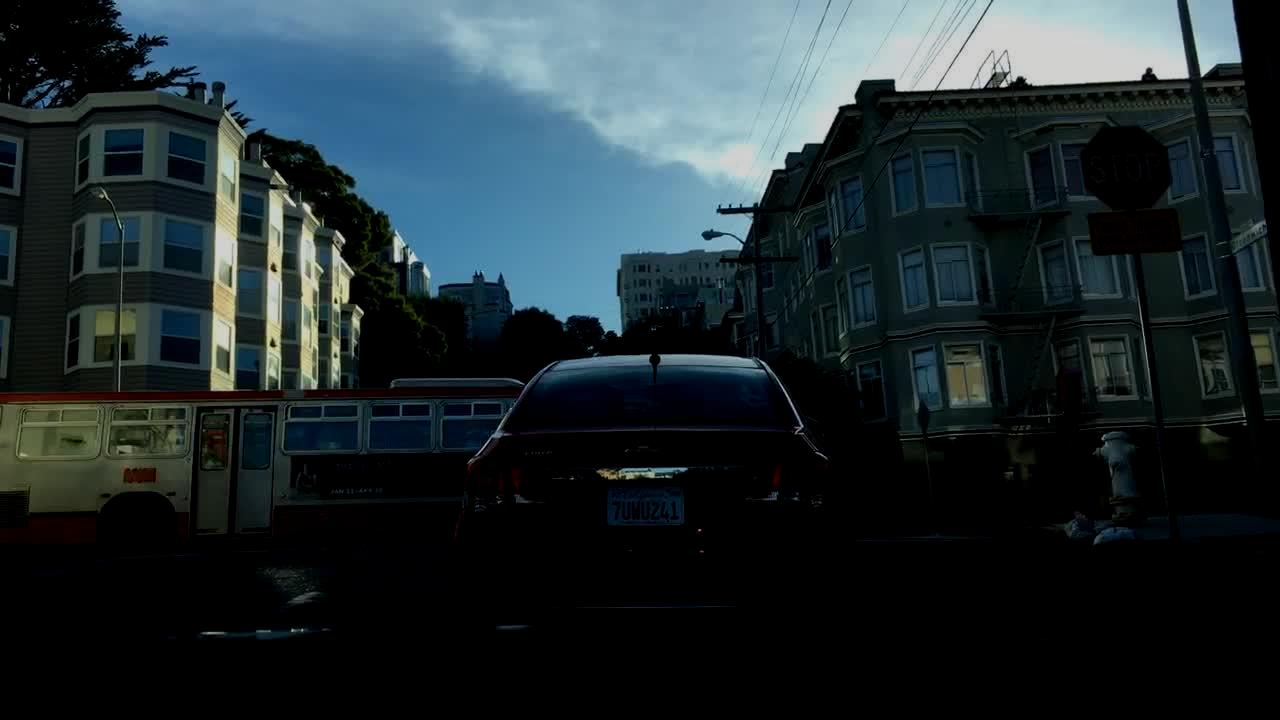chevrolet: (609, 431, 681, 471)
